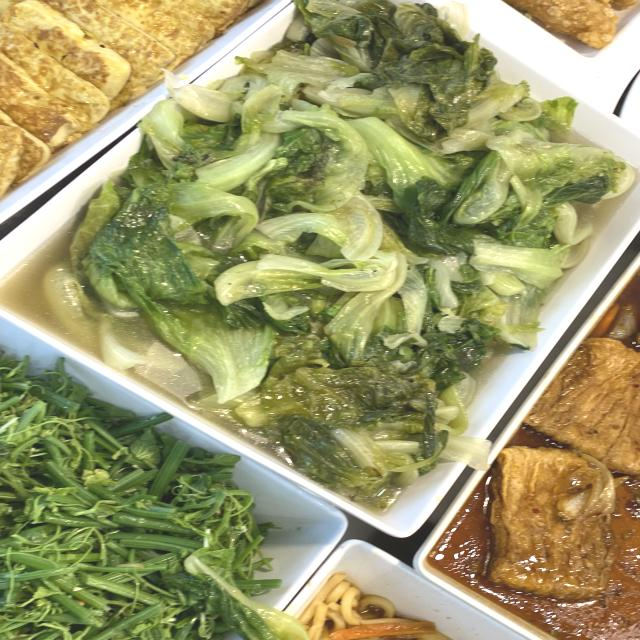Fushan-lettuce: (183, 109, 518, 360)
